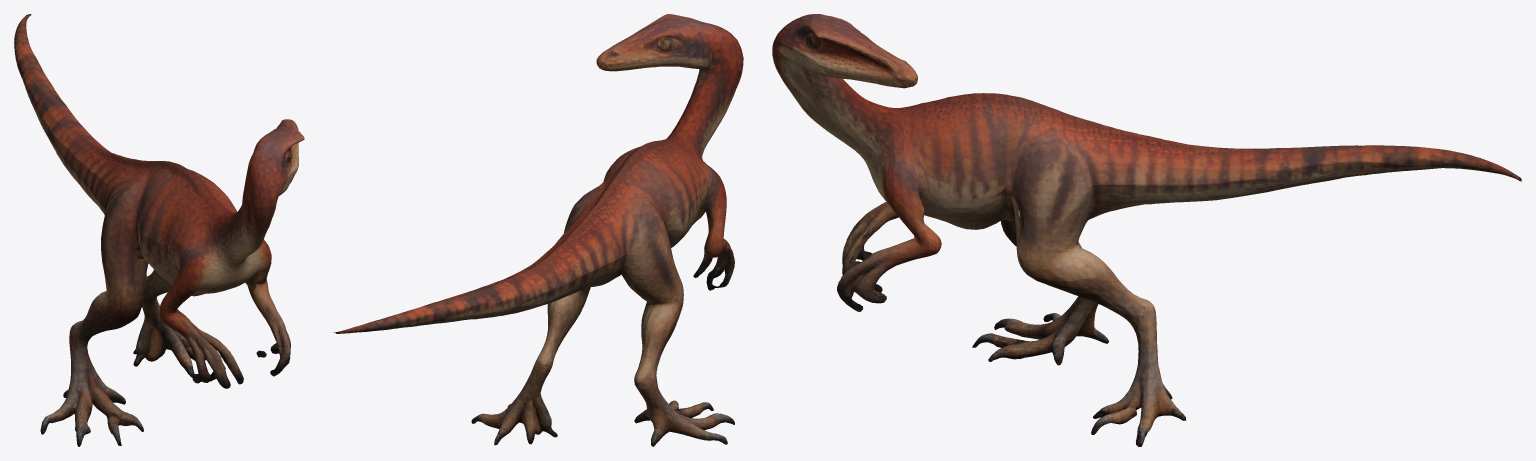
3 views of the same model, side by side, from view 1: azimuth 30°, elevation 25°; view 2: azimuth 150°, elevation 25°; view 3: azimuth 270°, elevation 25° (orthographic). The views are drawn at different scales.
Parts seen in each view (by area): view 1: world; view 2: world; view 3: world.
Boxes of the visible parts, box(x1,y1,x2,y2) form: world: box(14, 14, 304, 446); world: box(333, 14, 743, 446); world: box(772, 14, 1521, 446).
Size of the model in its own units: 0.391 by 0.5606 by 0.9993.
Materials: 1 (1 with a texture image).
